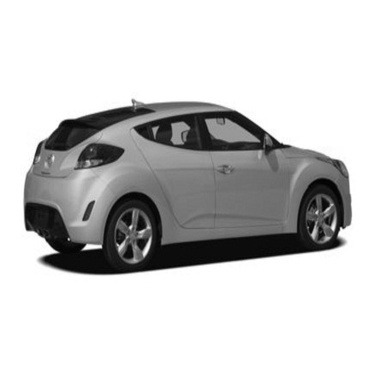car: (16, 94, 357, 269)
